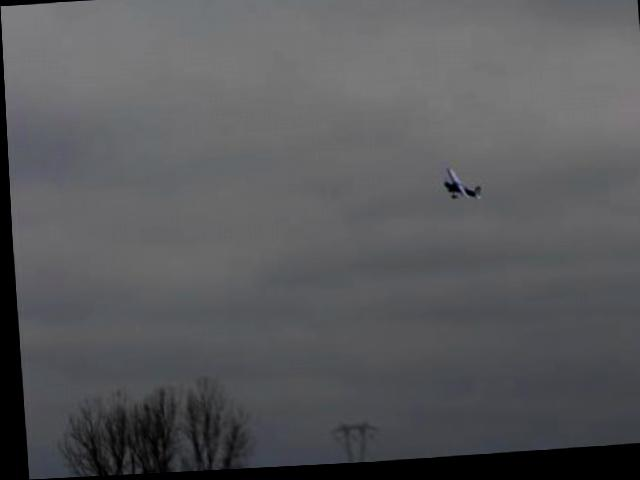uav: (440, 166, 484, 213)
